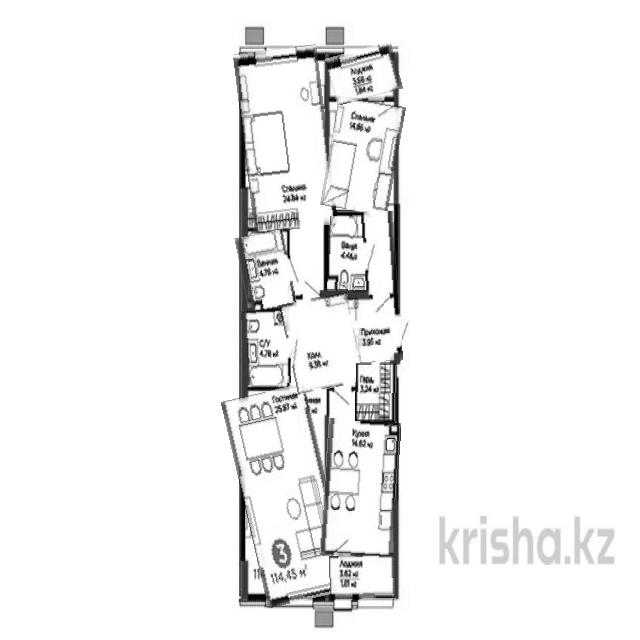balcony: (328, 45, 400, 102), (329, 556, 396, 600)
bathroom: (238, 231, 294, 314), (242, 310, 291, 385), (328, 217, 370, 291)
hallway: (284, 294, 361, 392), (356, 211, 403, 363)
kitchen: (322, 419, 399, 559)
living_room: (232, 386, 341, 605), (239, 46, 333, 231), (325, 97, 401, 214)
other: (356, 363, 398, 421)
